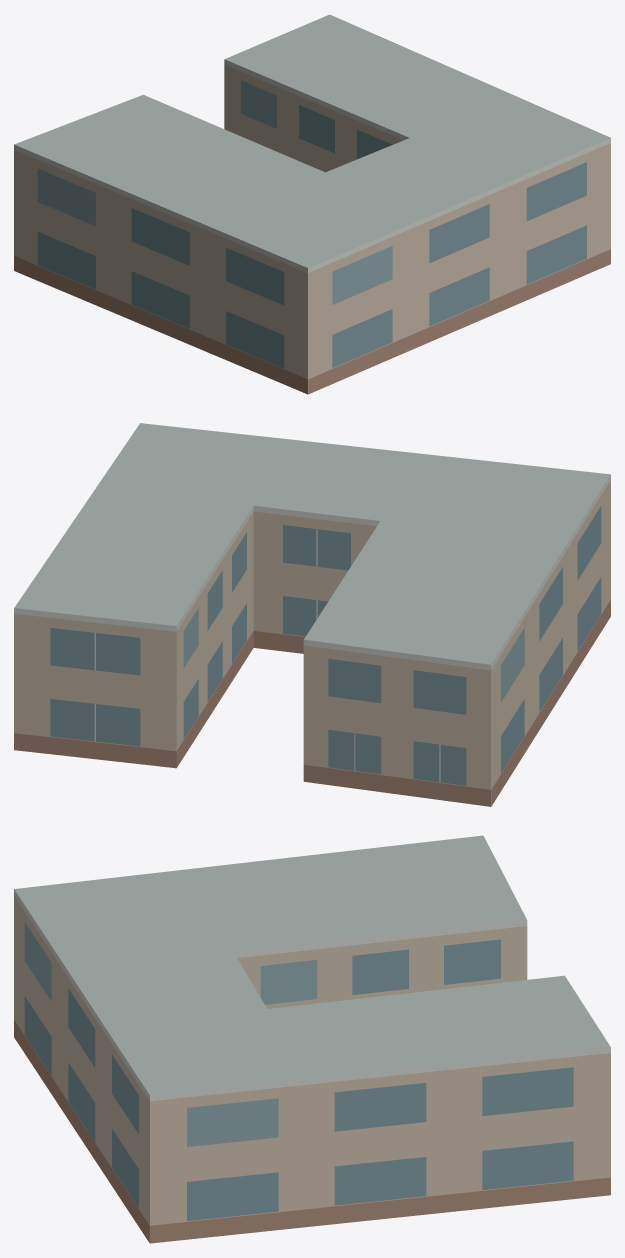
File: survey-upis-32923822.glb
The picture shows the model from 3 angles, top to bottom: view 1: azimuth 30°, elevation 25°; view 2: azimuth 150°, elevation 25°; view 3: azimuth 270°, elevation 25°; orthographic projection. The views are drawn at different scales.
Parts seen in each view (by area): view 1: survey-upis-32923822.tmp; view 2: survey-upis-32923822.tmp; view 3: survey-upis-32923822.tmp.
Boxes of the visible parts, bbox=[...] form: survey-upis-32923822.tmp: bbox=[14, 14, 610, 394]; survey-upis-32923822.tmp: bbox=[14, 423, 610, 806]; survey-upis-32923822.tmp: bbox=[14, 835, 610, 1243].
Bounding box in the file's own units: 22.97 × 6.1 × 22.28.
